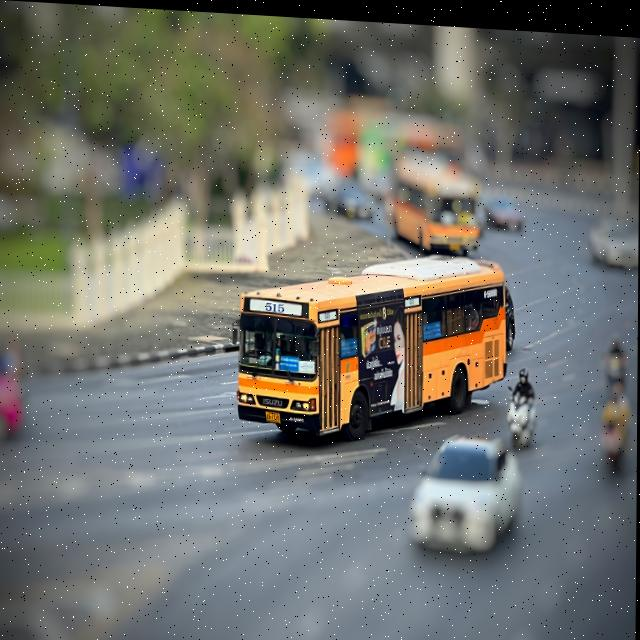BMTA-bus: (233, 240, 514, 448)
Bus-Line-Number: (260, 294, 292, 313)
Destination-Sign-Normal: (278, 352, 300, 369)
